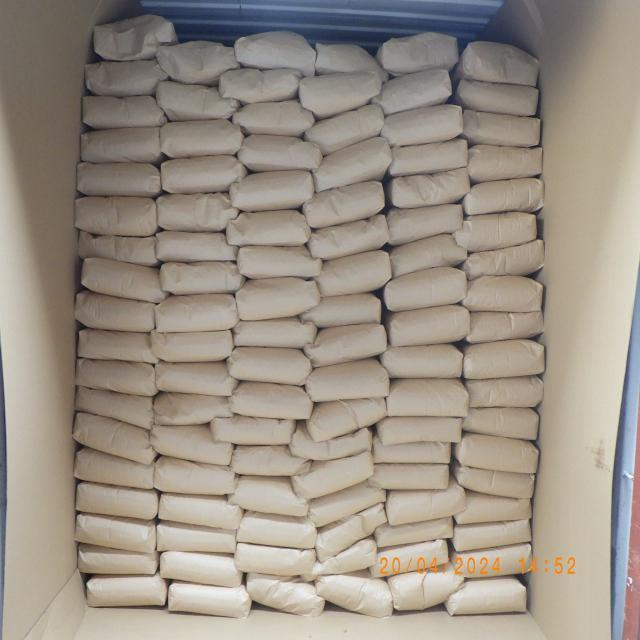gunny_bag: (92, 12, 176, 60), (79, 254, 165, 300), (294, 448, 376, 496), (314, 138, 392, 188), (304, 101, 383, 150), (461, 38, 541, 86), (234, 276, 318, 321), (384, 266, 468, 310), (305, 358, 390, 401), (319, 501, 385, 556), (75, 413, 152, 460), (74, 481, 158, 524), (309, 531, 377, 584), (308, 397, 386, 443), (309, 215, 390, 259), (318, 572, 392, 620), (226, 476, 310, 518), (151, 420, 233, 463), (75, 512, 155, 556), (308, 322, 388, 366), (76, 292, 158, 334), (302, 180, 384, 222), (379, 32, 461, 74), (77, 158, 163, 198), (152, 39, 238, 79), (388, 375, 468, 418), (246, 575, 324, 619), (375, 67, 451, 112), (316, 38, 390, 84), (230, 170, 315, 210), (76, 196, 158, 237), (154, 192, 238, 232), (236, 32, 316, 74), (299, 71, 382, 111), (238, 130, 320, 170), (456, 78, 538, 118), (447, 578, 529, 618), (84, 60, 170, 98), (461, 340, 546, 378), (456, 434, 541, 472), (310, 483, 385, 526), (76, 356, 156, 396), (393, 567, 461, 614), (76, 386, 152, 428), (389, 232, 465, 274), (77, 125, 163, 162), (463, 274, 542, 314), (216, 63, 301, 100), (76, 448, 154, 488), (383, 105, 462, 144), (316, 252, 393, 292), (387, 482, 464, 522), (227, 210, 310, 247), (76, 328, 156, 366), (232, 381, 312, 419), (388, 138, 468, 176), (390, 306, 470, 344), (300, 293, 382, 330), (459, 110, 542, 146), (388, 204, 462, 244), (157, 158, 244, 192), (150, 323, 232, 359), (169, 584, 251, 620), (152, 359, 236, 394), (455, 464, 536, 500), (156, 293, 239, 328), (462, 212, 538, 250), (292, 423, 370, 460), (384, 341, 462, 378), (156, 80, 236, 116), (374, 540, 448, 578), (466, 241, 544, 277), (236, 540, 318, 574), (458, 404, 540, 438), (81, 93, 162, 127), (76, 231, 157, 265), (231, 98, 312, 132), (158, 120, 244, 152), (231, 348, 311, 382), (156, 229, 240, 261), (238, 244, 321, 276), (154, 390, 232, 424), (390, 170, 468, 204), (158, 493, 238, 526), (231, 443, 311, 476), (452, 544, 534, 576), (156, 459, 235, 492), (160, 554, 240, 586), (451, 520, 531, 552), (467, 144, 542, 178), (232, 320, 316, 350), (466, 178, 544, 210), (466, 374, 544, 406), (212, 415, 293, 445), (162, 264, 245, 293), (154, 524, 234, 554), (378, 416, 462, 444), (88, 579, 168, 607), (238, 518, 318, 546), (468, 310, 544, 339), (454, 496, 531, 524), (76, 549, 156, 575), (376, 520, 454, 546), (372, 463, 449, 488), (372, 440, 452, 462), (458, 547, 459, 552)
